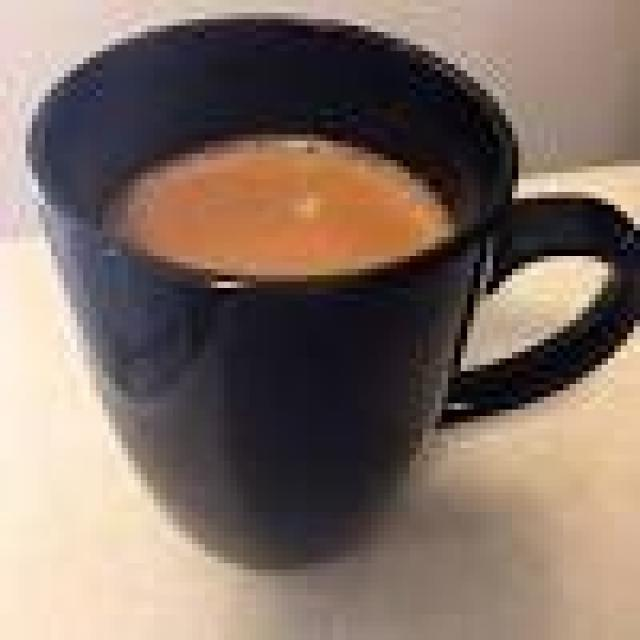taza: (24, 9, 640, 566)
